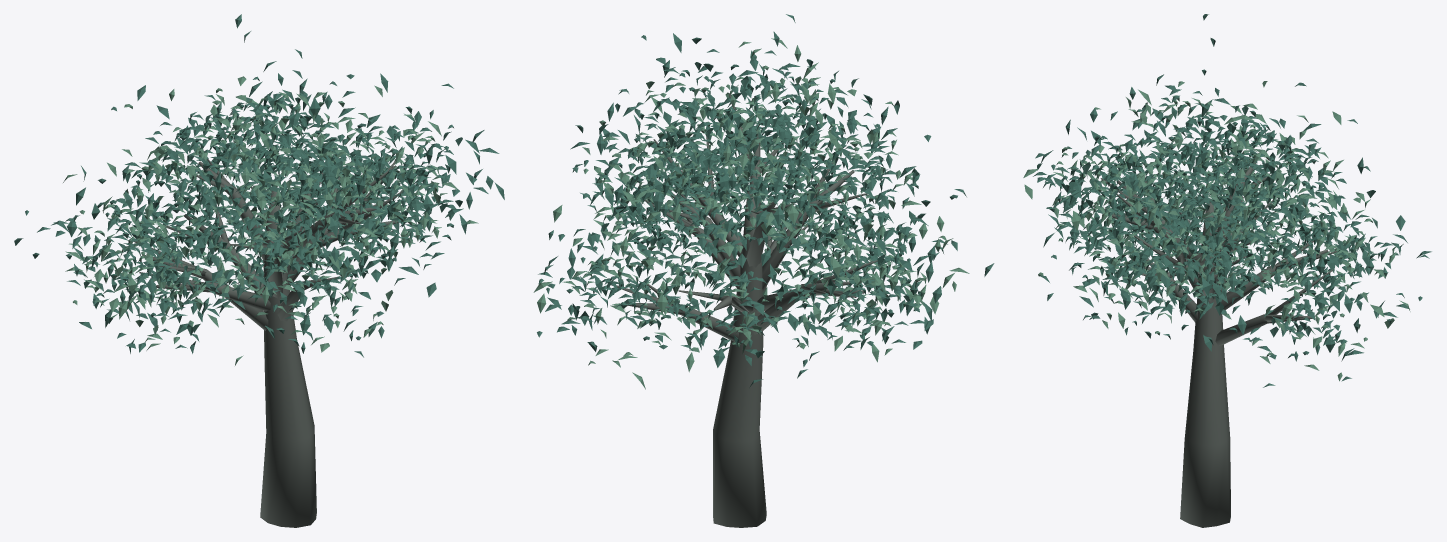
Rendered from slim.glb.
3 renders of one model, left to right at view 1: azimuth 30°, elevation 25°; view 2: azimuth 150°, elevation 25°; view 3: azimuth 270°, elevation 25°, orthographic. The views are drawn at different scales.
Visible parts, largest first — view 1: Moonwater slim leaves, Moonwater slim branches; view 2: Moonwater slim leaves, Moonwater slim branches; view 3: Moonwater slim leaves, Moonwater slim branches.
Part boxes in pixels (x1,y1,x2,y2): Moonwater slim leaves: (14,14,504,365); Moonwater slim branches: (134,159,402,527); Moonwater slim leaves: (533,14,994,389); Moonwater slim branches: (611,93,877,527); Moonwater slim leaves: (1023,14,1431,387); Moonwater slim branches: (1092,162,1336,527).
Bounding box in the file's own units: 5.71 × 6.93 × 5.35.
